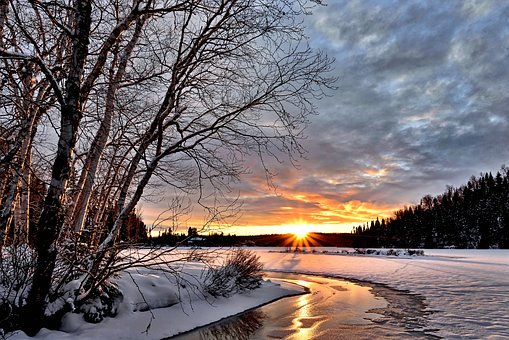sky: (157, 3, 497, 237)
tree: (5, 6, 214, 303)
